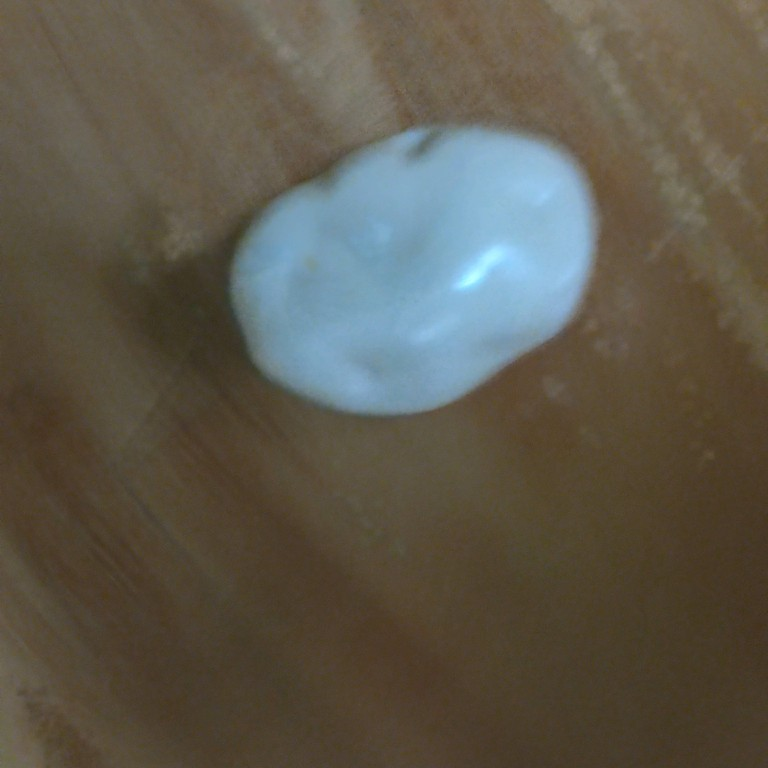fruit_potato: (225, 118, 609, 423)
